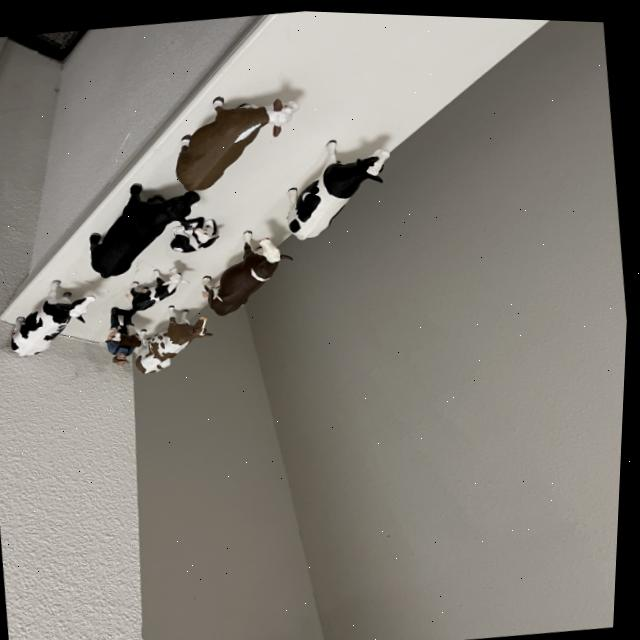cow: (154, 59, 306, 198), (68, 156, 215, 284), (264, 113, 403, 244), (191, 218, 296, 321), (1, 266, 101, 367), (123, 290, 220, 380), (124, 257, 191, 314), (167, 211, 224, 255), (115, 330, 145, 348)
person: (104, 337, 138, 367)
